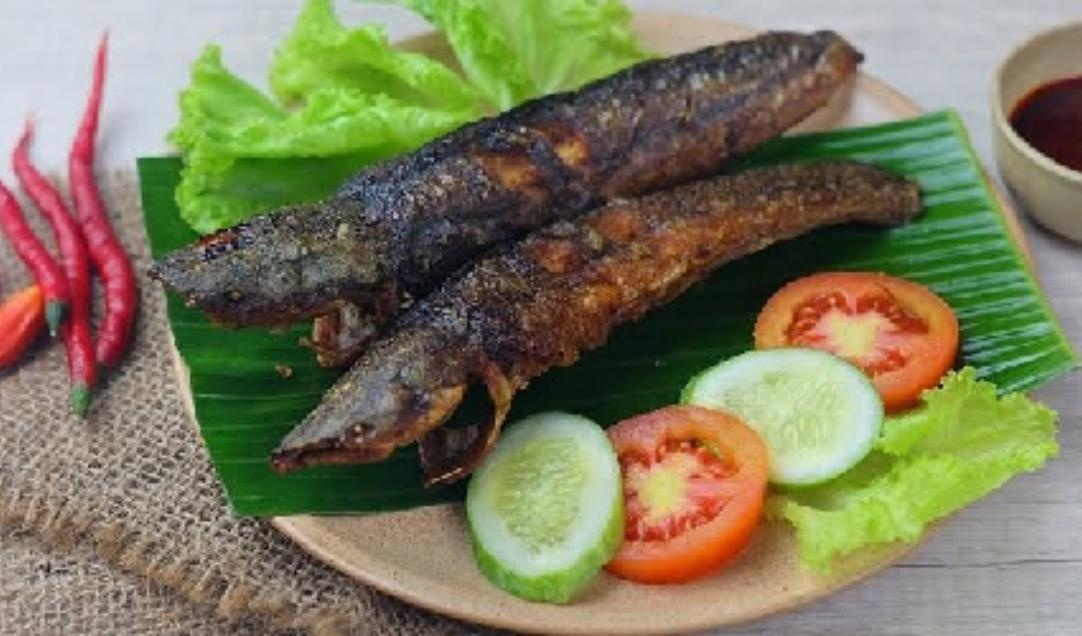pecel_lele: (123, 154, 961, 270)
